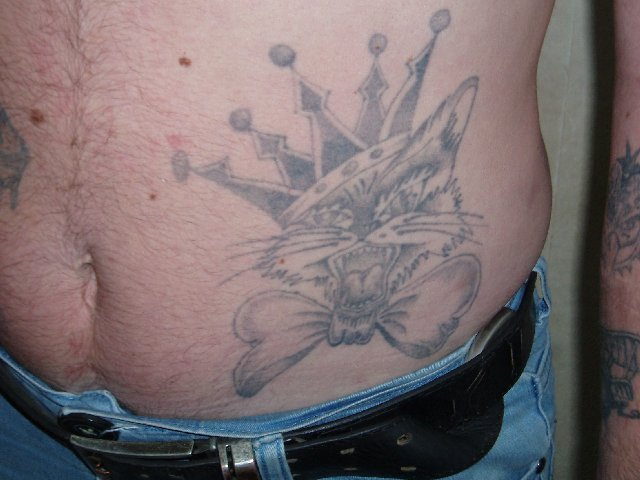tatu8_kot: (168, 12, 486, 359)
